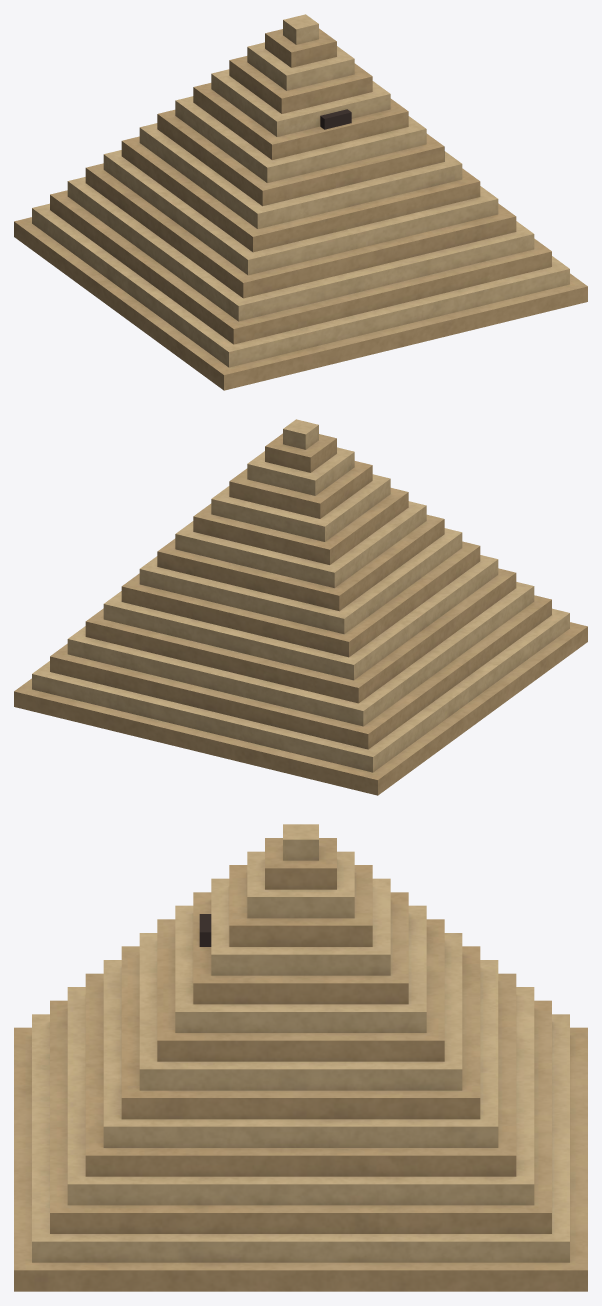
File: pyramid_drottning_tex.glb
3 views of the same model, one above another, from view 1: azimuth 30°, elevation 25°; view 2: azimuth 150°, elevation 25°; view 3: azimuth 270°, elevation 25° (orthographic). The views are drawn at different scales.
Parts seen in each view (by area): view 1: pyramid_drottning; view 2: pyramid_drottning; view 3: pyramid_drottning.
Boxes of the visible parts, x1,y1,x2,y2 form: pyramid_drottning: (14,14,587,390); pyramid_drottning: (14,419,587,795); pyramid_drottning: (14,824,587,1291).
Bounding box in the file's own units: 40 × 26 × 40.
Materials: 3 (2 with a texture image).
